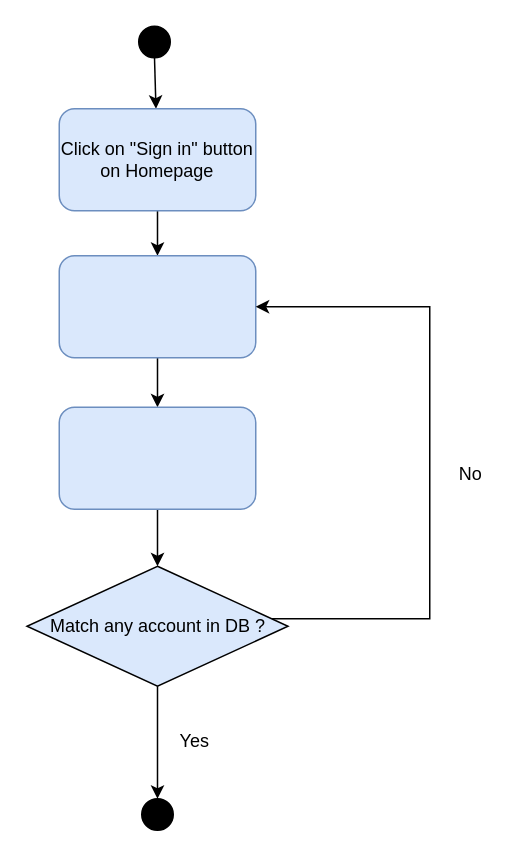
This 513x857 diagram has some shape labels left out. The shapes that lost their labels are listed below. From the top down, each one's box as (x1, y1, x2, y2) in pixels, then its label:
(58, 254, 256, 358): Enter UserName and Password
(58, 406, 256, 509): Click on "Sign in"
